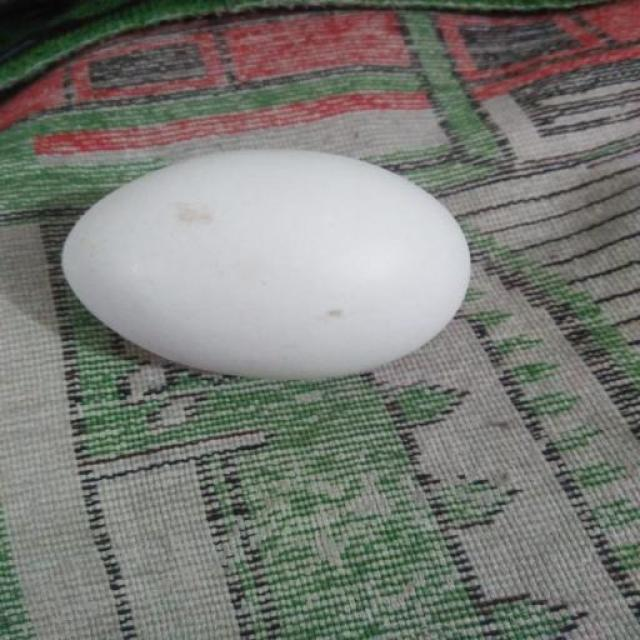telur: (64, 146, 478, 380)
